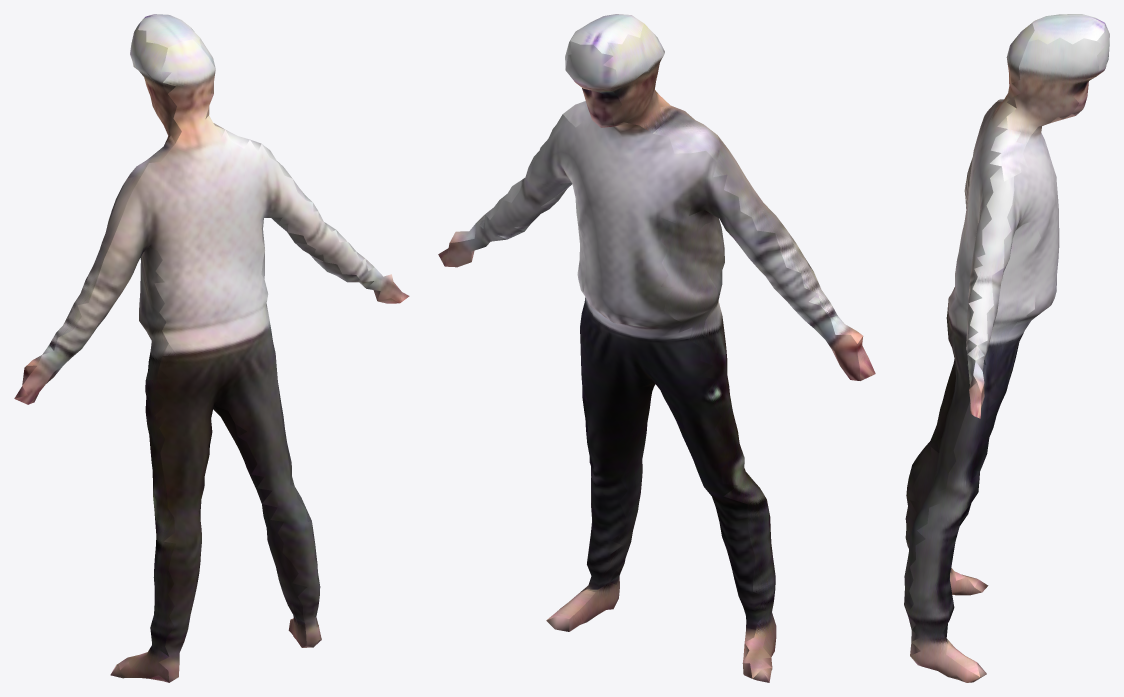
3 renders of one model, left to right at view 1: azimuth 30°, elevation 25°; view 2: azimuth 150°, elevation 25°; view 3: azimuth 270°, elevation 25°, orthographic. The views are drawn at different scales.
Visible parts, largest first — view 1: world; view 2: world; view 3: world.
Part boxes in pixels (x1=…): world: x1=14, y1=14, x2=409, y2=682; world: x1=438, y1=14, x2=875, y2=682; world: x1=904, y1=14, x2=1109, y2=682.
Size of the model in its own units: 0.6851 by 0.9988 by 0.3008.
1 material, 1 textured.
